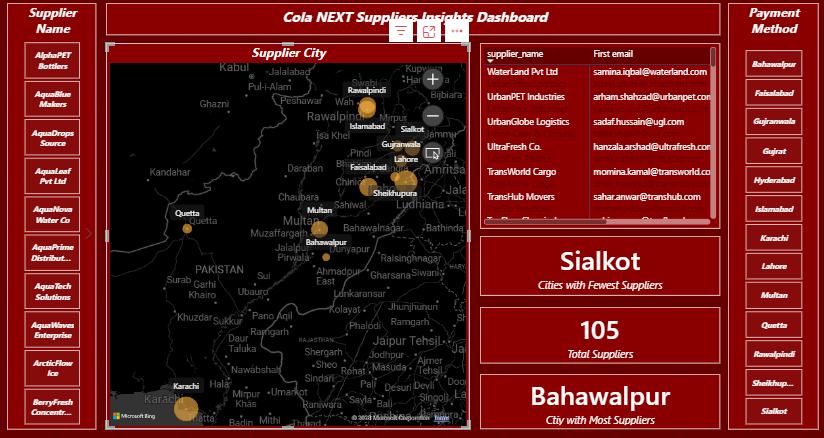

This screenshot's page, from the dashboard's own definition file:
{"tool":"powerbi","page":{"name":"Supplier Insights","canvas":[1280,720],"ordinal":5},"visuals":[{"type":"textbox","box":[172.2,28.3,935.6,48.8],"z":0},{"type":"slicer","title":"Supplier Name","fields":{"Values":["colanextdb suppliers.supplier_name"]},"box":[21.8,28.3,136.2,650.3],"z":1},{"type":"slicer","title":"Payment Method","fields":{"Values":["colanextdb suppliers.city"]},"box":[1120.6,28.3,137.5,650.3],"z":2},{"type":"map","title":"Supplier City","fields":{"Category":["colanextdb suppliers.city"],"Size":["CountNonNull(colanextdb suppliers.supplier_id)"]},"box":[172.2,90,553.9,588.6],"z":3},{"type":"card","fields":{"Values":["Count(colanextdb suppliers.supplier_id)"]},"box":[741.5,492.2,366.3,86.1],"z":5},{"type":"card","fields":{"Values":["Min(colanextdb suppliers.city)"]},"box":[741.5,595,366.3,83.5],"z":6},{"type":"card","fields":{"Values":["Max(colanextdb suppliers.city)"]},"box":[741.5,384.3,366.3,91.2],"z":7},{"type":"pivotTable","fields":{"Rows":["colanextdb suppliers.supplier_name"],"Values":["Min(colanextdb suppliers.email)","Min(colanextdb suppliers.phone)"]},"box":[741.5,90,366.3,282.7],"z":8}]}

Visuals, with their boxes on the page's 1280x720 design canvas (x1, y1, x2, y2). These are canvas units, not pixel positions in the 824x438 screenshot, which may show the page scaled, cropped or inside an application window:
textbox: crop(172, 28, 1108, 77)
"Supplier Name" slicer: crop(22, 28, 158, 679)
"Payment Method" slicer: crop(1121, 28, 1258, 679)
"Supplier City" map: crop(172, 90, 726, 679)
card - Count(colanextdb suppliers.supplier_id): crop(742, 492, 1108, 578)
card - Min(colanextdb suppliers.city): crop(742, 595, 1108, 678)
card - Max(colanextdb suppliers.city): crop(742, 384, 1108, 476)
pivotTable - colanextdb suppliers.supplier_name x Min(colanextdb suppliers.email): crop(742, 90, 1108, 373)
